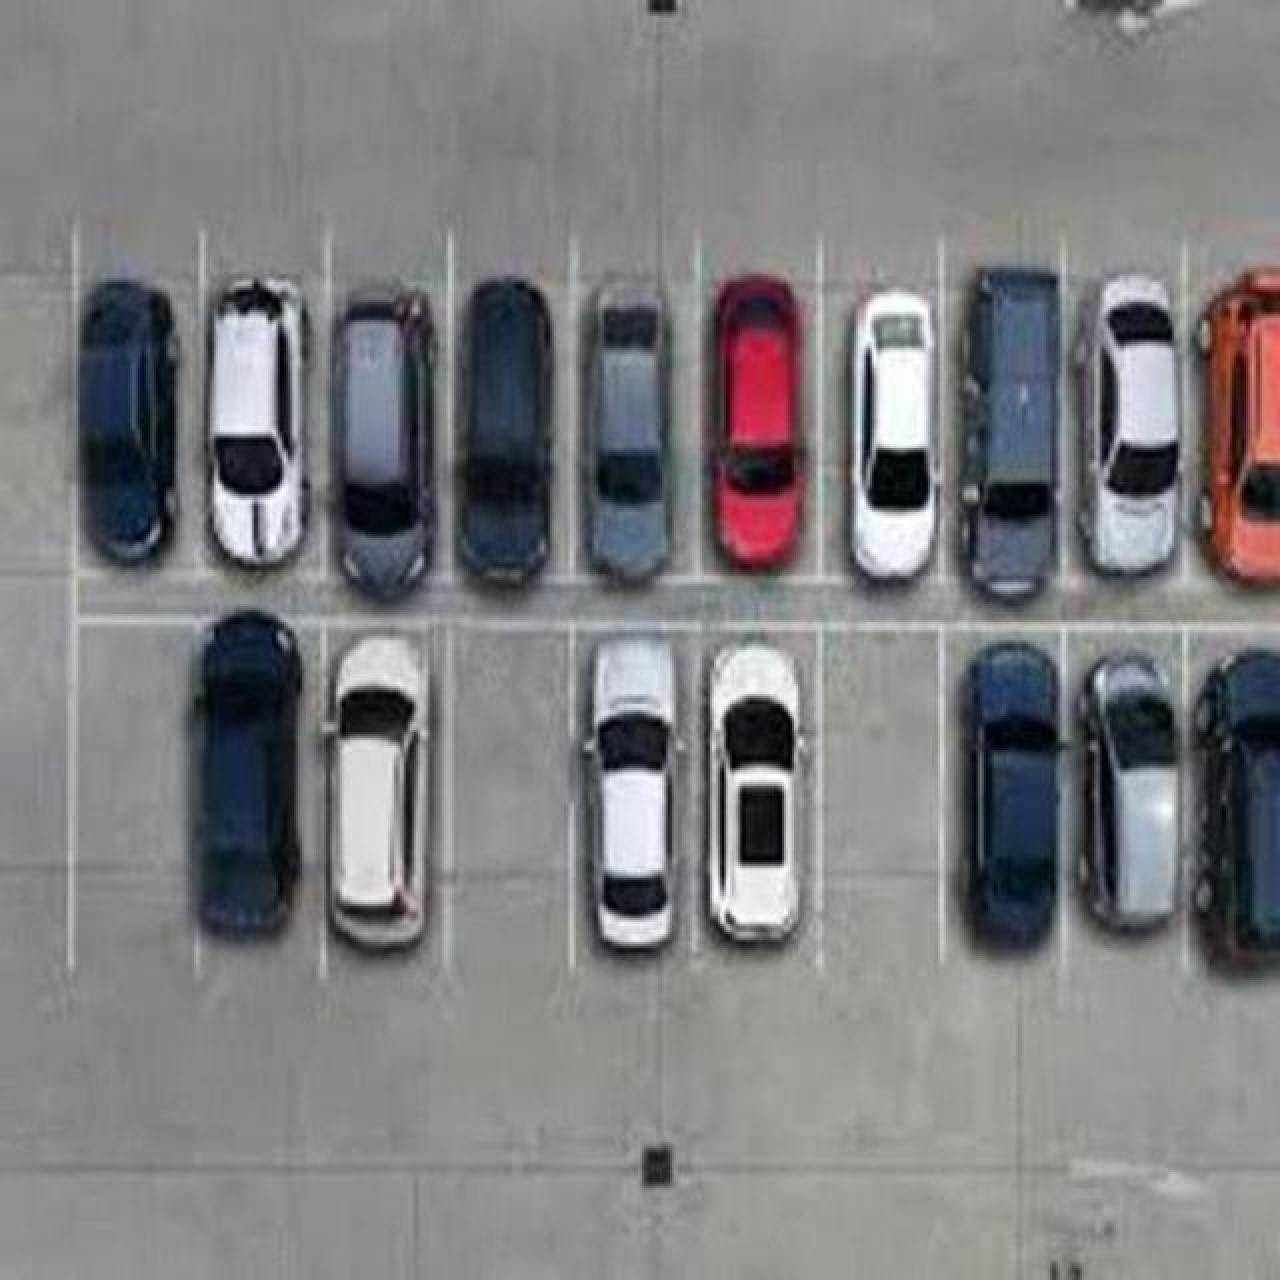car: (195, 608, 302, 938), (956, 264, 1060, 600), (324, 629, 430, 949), (331, 288, 436, 600), (1074, 270, 1180, 576), (454, 275, 554, 588), (204, 274, 308, 568), (583, 632, 678, 949), (964, 640, 1060, 948), (1076, 651, 1180, 934), (704, 644, 802, 944), (76, 278, 178, 564), (1190, 648, 1278, 976), (708, 272, 804, 570), (580, 275, 670, 586), (844, 288, 938, 583), (1194, 264, 1278, 586)
